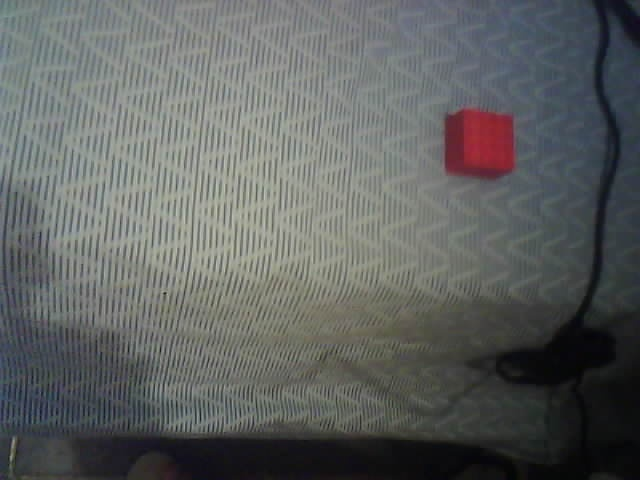lego: (442, 109, 515, 178)
